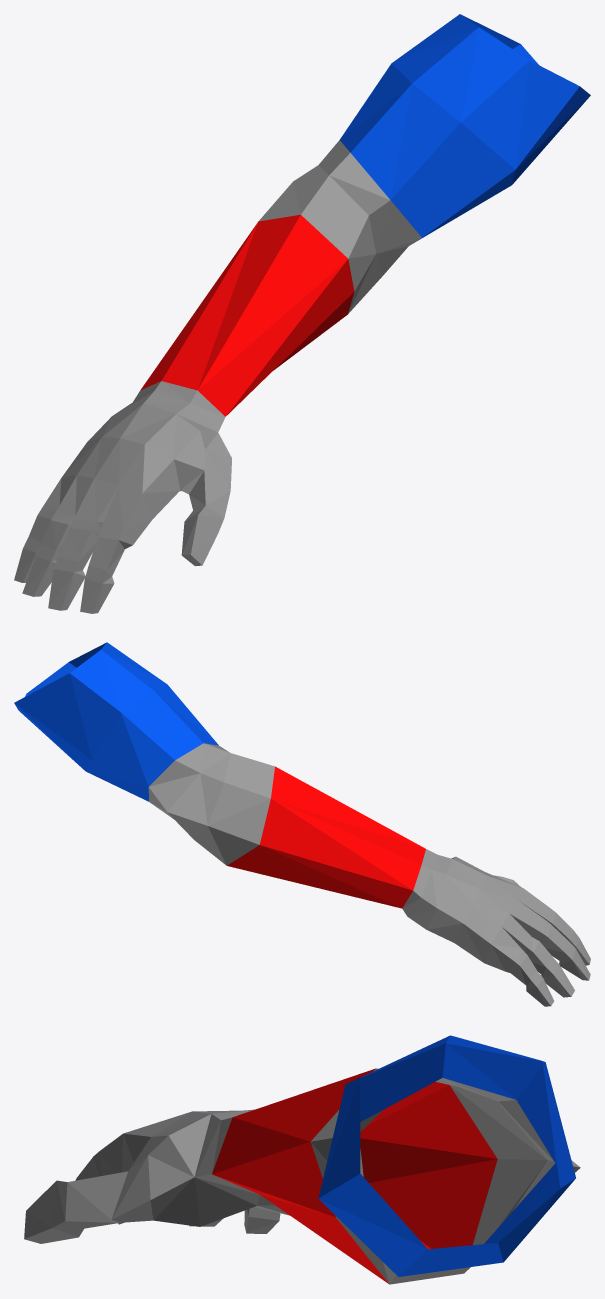
Rendered from SpaceArm.FBX.
3 views of the same model, one above another, from view 1: azimuth 30°, elevation 25°; view 2: azimuth 150°, elevation 25°; view 3: azimuth 270°, elevation 25° (orthographic). The views are drawn at different scales.
Visible parts, largest first — view 1: ARM; view 2: ARM; view 3: ARM.
Boxes of the visible parts, box(x1,y1,x2,y2) form: ARM: box(14, 14, 590, 613); ARM: box(14, 642, 590, 1006); ARM: box(24, 1035, 580, 1284).
Bounding box in the file's own units: 26.67 × 15.24 × 13.1.
